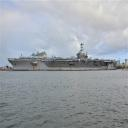Portanaves: (8, 41, 120, 73)
